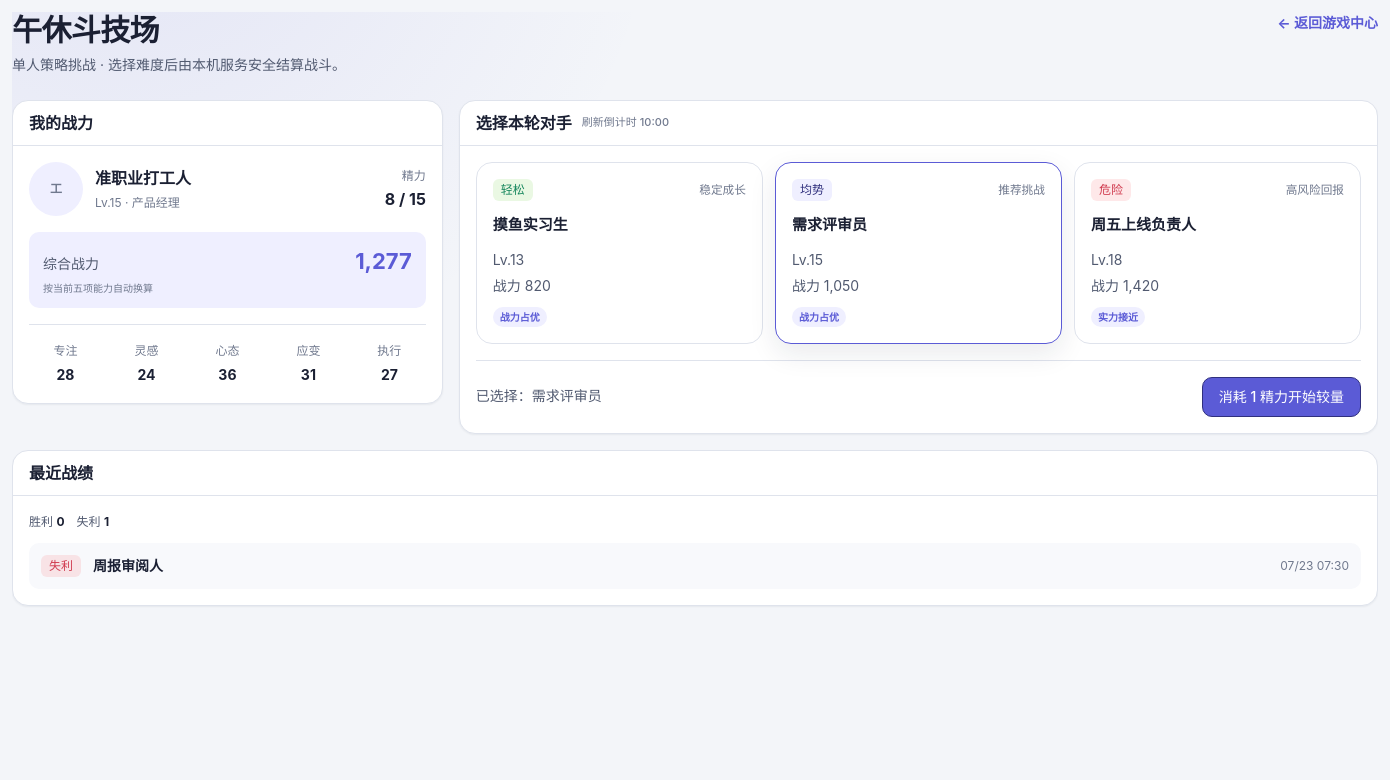
Test: ArenaPage › 战斗失败时保留对手并显示独立错误
Step 1. Click the button "消耗 1 精力开始较量" → click(1281, 397), box left=1202, top=377, right=1361, bottom=417
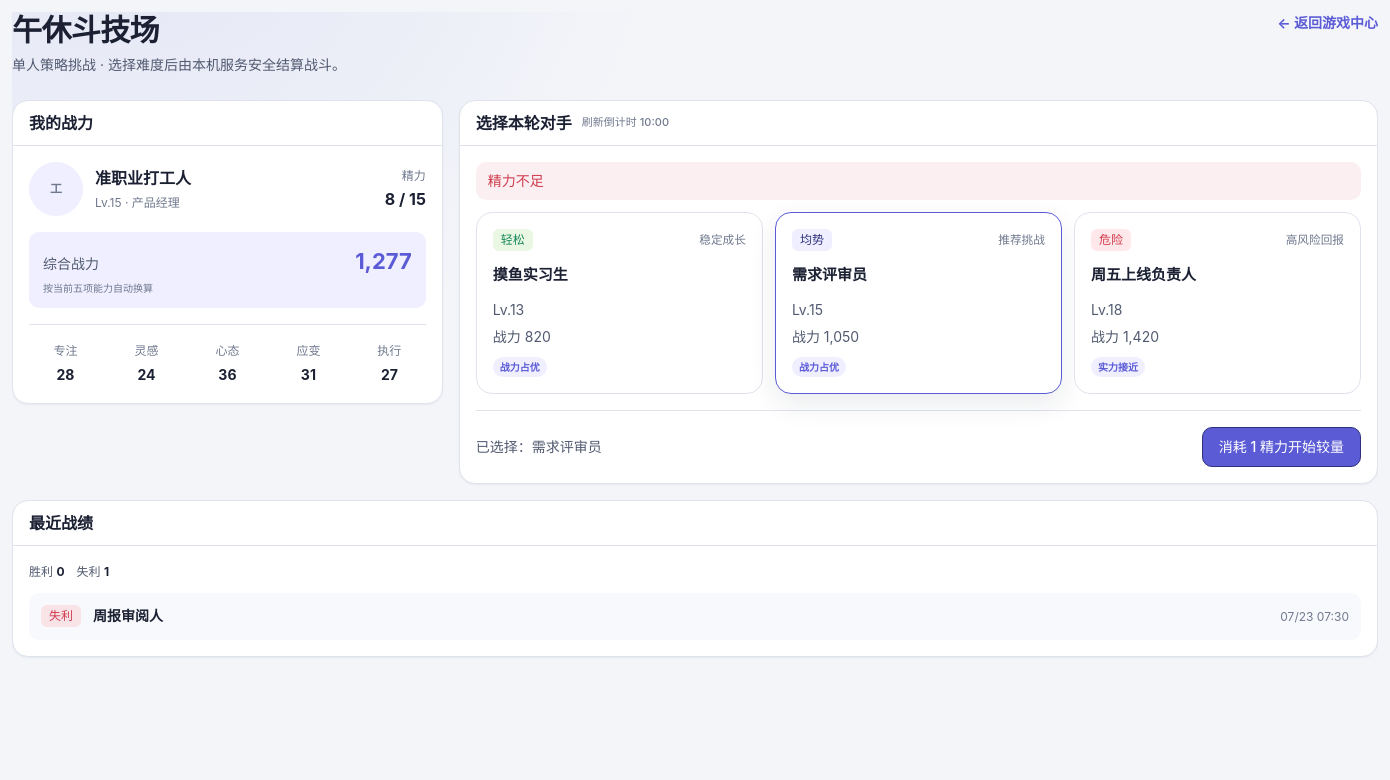
Expected: the text "已选择：需求评审员" is shown, left=476, top=438, right=602, bottom=455
Result: the message reads "精力不足" at left=488, top=172, right=544, bottom=189
